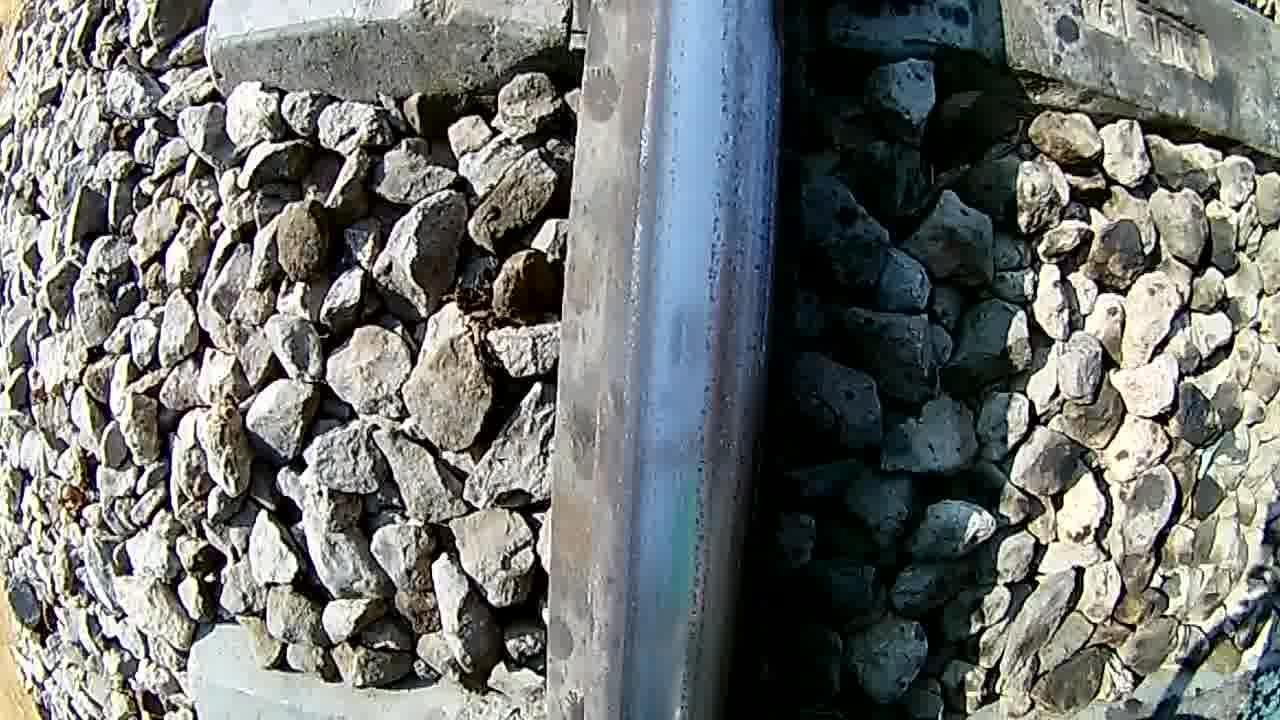crack: (606, 0, 784, 720)
